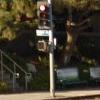Tree: (57, 1, 100, 60)
